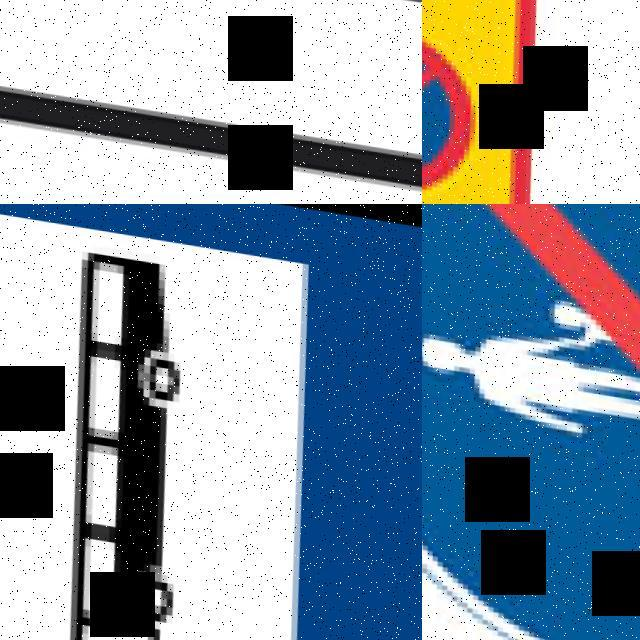112: (422, 204, 640, 640)
120: (422, 0, 582, 204)
66: (0, 0, 422, 204)
Bus stop: (0, 204, 422, 640)
